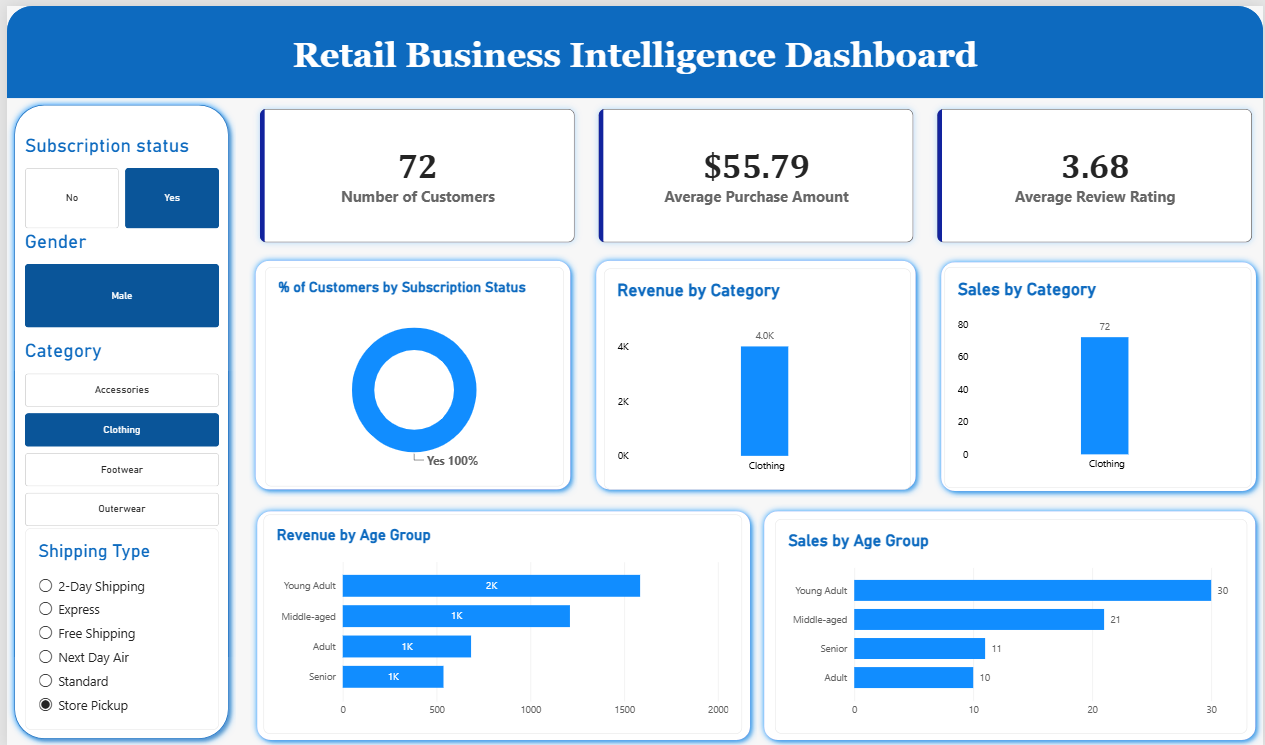

Layout of this report page (visuals, bound fields, positions):
{"tool":"powerbi","page":{"name":"Page 1","canvas":[1580,932],"ordinal":0},"visuals":[{"type":"cardVisual","fields":{"Data":["public customer.Number of Customers","public customer.Average Purchase Amount","public customer.Average Review Rating"]},"box":[304,116,1276,196],"z":0},{"type":"shape","box":[0,0,1580,116],"z":1},{"type":"textbox","box":[0,0,1580,138],"z":2},{"type":"shape","box":[304,312,414,306],"z":3},{"type":"donutChart","title":"% of Customers by Subscription Status","fields":{"Category":["public customer.subscription_status"],"Y":["CountNonNull(public customer.customer_id)"]},"box":[324,328,376,276],"z":4},{"type":"shape","box":[732,312,420,306],"z":5},{"type":"shape","box":[1166,314,414,306],"z":6},{"type":"clusteredColumnChart","title":"Revenue by Category","fields":{"Category":["public customer.category"],"Y":["Sum(public customer.purchase_amount)"]},"box":[750,330,386,278],"z":7},{"type":"clusteredColumnChart","title":"Sales by Category","fields":{"Category":["public customer.category"],"Y":["CountNonNull(public customer.purchase_amount)"]},"box":[1180,328,386,278],"z":8},{"type":"shape","box":[0,116,288,816],"z":9},{"type":"advancedSlicerVisual","fields":{"Values":["public customer.subscription_status"]},"box":[22,160,244,120],"z":10},{"type":"advancedSlicerVisual","fields":{"Values":["public customer.gender"]},"box":[22,282,244,124],"z":11},{"type":"advancedSlicerVisual","fields":{"Values":["public customer.category"]},"box":[22,418,244,238],"z":12},{"type":"listSlicer","fields":{"Values":["public customer.shipping_type"]},"box":[22,656,244,254],"z":13},{"type":"shape","box":[306,626,638,306],"z":15},{"type":"shape","box":[944,626,636,306],"z":16},{"type":"clusteredBarChart","title":"Revenue by Age Group","fields":{"Category":["public customer.age_group"],"Y":["Sum(public customer.purchase_amount)"]},"box":[322,640,602,276],"z":17},{"type":"clusteredBarChart","title":"Sales by Age Group","fields":{"Category":["public customer.age_group"],"Y":["CountNonNull(public customer.customer_id)"]},"box":[966,646,594,270],"z":18}]}

Visuals, with their boxes in screenshot pixels (x1, y1, x2, y2), scaled from the page's 1580x932 canvas onto the 1265x745 screenshot:
cardVisual - public customer.Number of Customers x public customer.Average Purchase Amount: bbox=(243, 93, 1264, 249)
shape: bbox=(0, 0, 1264, 93)
textbox: bbox=(0, 0, 1264, 110)
shape: bbox=(243, 249, 575, 494)
"% of Customers by Subscription Status" donutChart: bbox=(259, 262, 560, 483)
shape: bbox=(586, 249, 922, 494)
shape: bbox=(934, 251, 1264, 496)
"Revenue by Category" clusteredColumnChart: bbox=(600, 264, 910, 486)
"Sales by Category" clusteredColumnChart: bbox=(945, 262, 1254, 484)
shape: bbox=(0, 93, 231, 744)
advancedSlicerVisual - public customer.subscription_status: bbox=(18, 128, 213, 224)
advancedSlicerVisual - public customer.gender: bbox=(18, 225, 213, 325)
advancedSlicerVisual - public customer.category: bbox=(18, 334, 213, 524)
listSlicer - public customer.shipping_type: bbox=(18, 524, 213, 727)
shape: bbox=(245, 500, 756, 744)
shape: bbox=(756, 500, 1264, 744)
"Revenue by Age Group" clusteredBarChart: bbox=(258, 512, 740, 732)
"Sales by Age Group" clusteredBarChart: bbox=(773, 516, 1249, 732)
